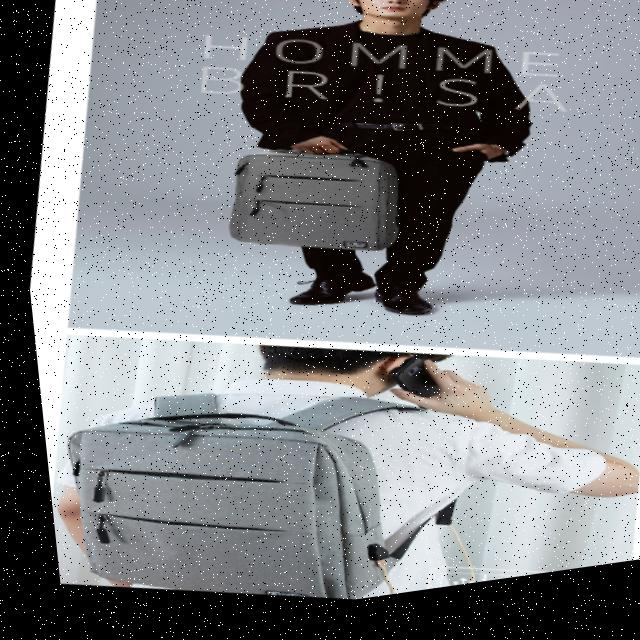backpack: (169, 108, 443, 304)
